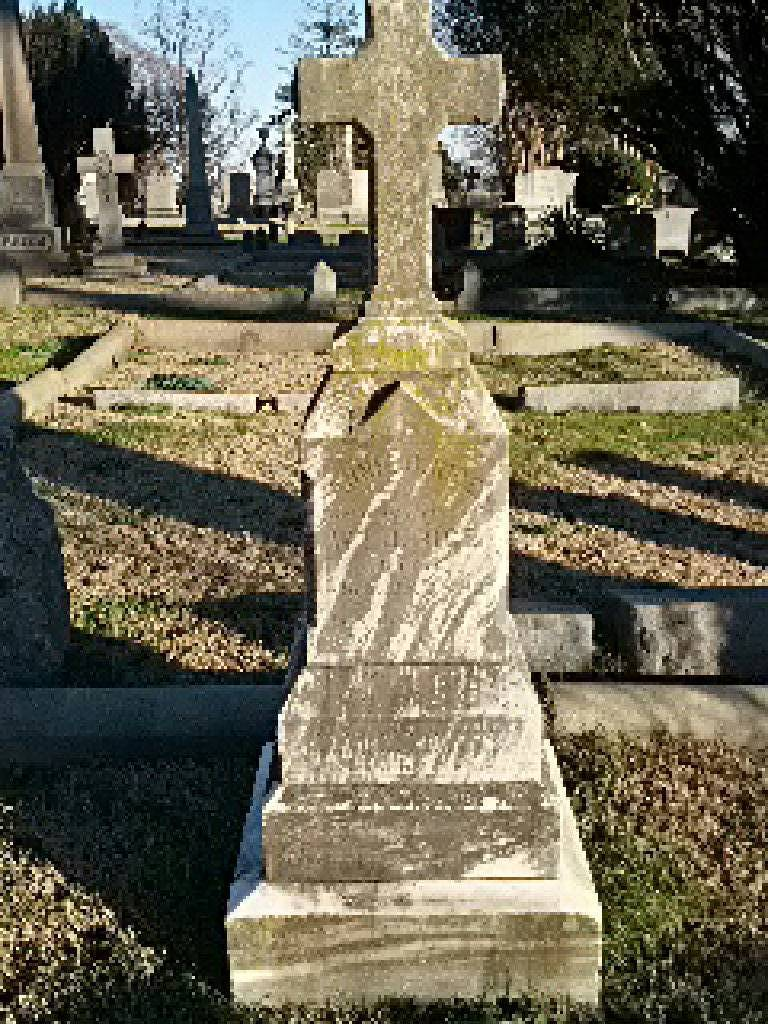obelisk: (265, 0, 554, 871)
